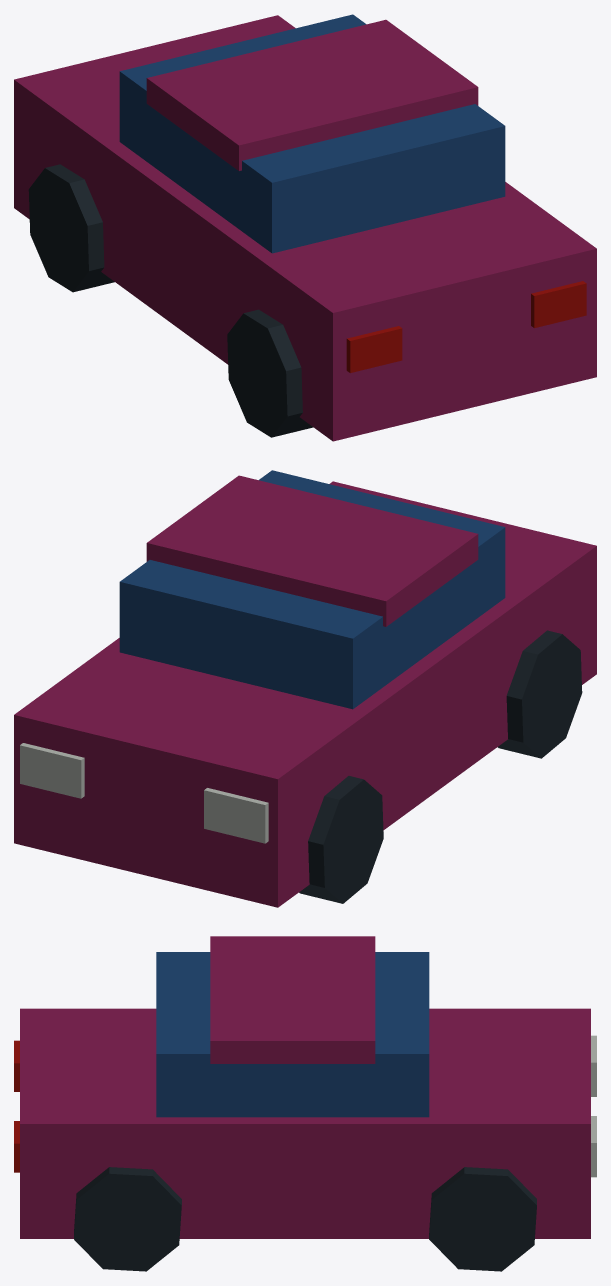
File: car-magenta.glb
The picture shows the model from 3 angles, top to bottom: view 1: azimuth 30°, elevation 25°; view 2: azimuth 150°, elevation 25°; view 3: azimuth 270°, elevation 25°; orthographic projection. The views are drawn at different scales.
Visible parts, largest first — view 1: car-magenta; view 2: car-magenta; view 3: car-magenta.
Part boxes in pixels (<box>): car-magenta: <box>14,14,596,441</box>; car-magenta: <box>14,470,596,907</box>; car-magenta: <box>14,936,596,1271</box>.
Size of the model in its own units: 4.8 by 3.8 by 9.19.
